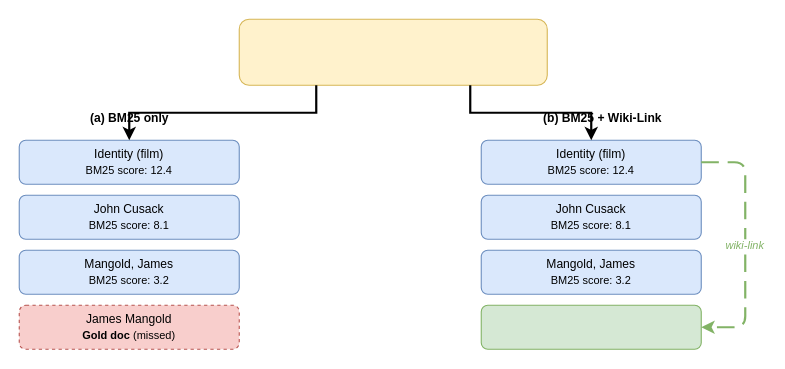
Some shapes in this 785 by 369 pixel diagram are drawn without their labels. The shapes that lost their labels are listed below. From the top down, each one's centre as x and y in pixels, then its label:
pixel 392 51: Query : "The director of Identity (2003) also directed what 1997 film?"
pixel 590 326: James Mangold Gold doc (recovered!)
